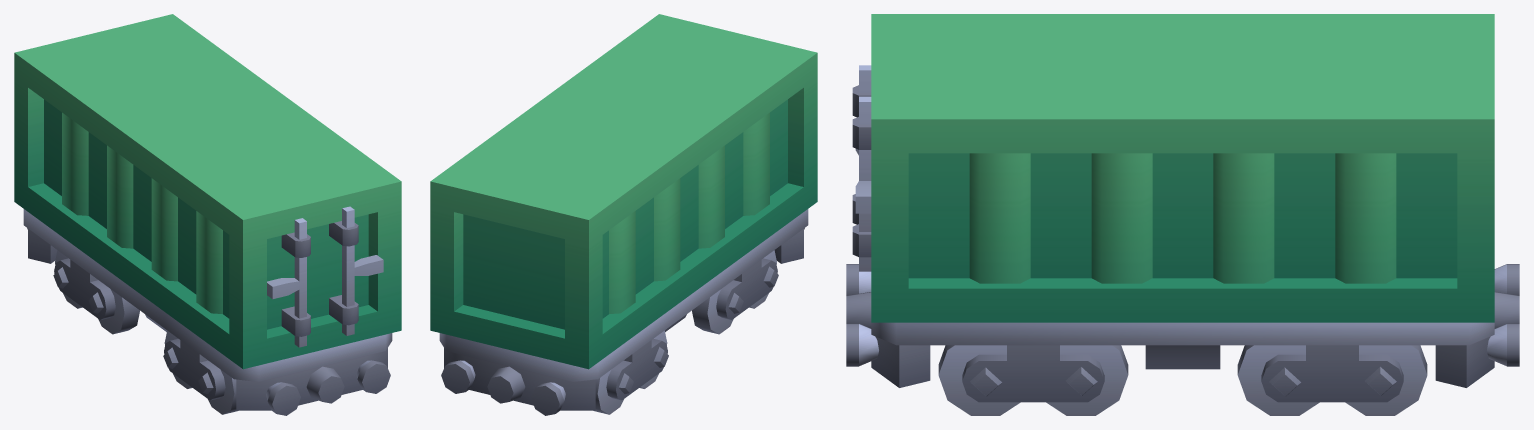
File: kenney-train-train-carriage-container-green.glb
3 renders of one model, left to right at view 1: azimuth 30°, elevation 25°; view 2: azimuth 150°, elevation 25°; view 3: azimuth 270°, elevation 25°, orthographic. The views are drawn at different scales.
Visible parts, largest first — view 1: train-carriage-container-green; view 2: train-carriage-container-green; view 3: train-carriage-container-green.
Part boxes in pixels (x1=…): train-carriage-container-green: x1=14, y1=14, x2=401, y2=415; train-carriage-container-green: x1=430, y1=14, x2=817, y2=415; train-carriage-container-green: x1=846, y1=14, x2=1519, y2=415.
Size of the model in its own units: 1 by 1.36 by 2.7.
1 material, 1 textured.
